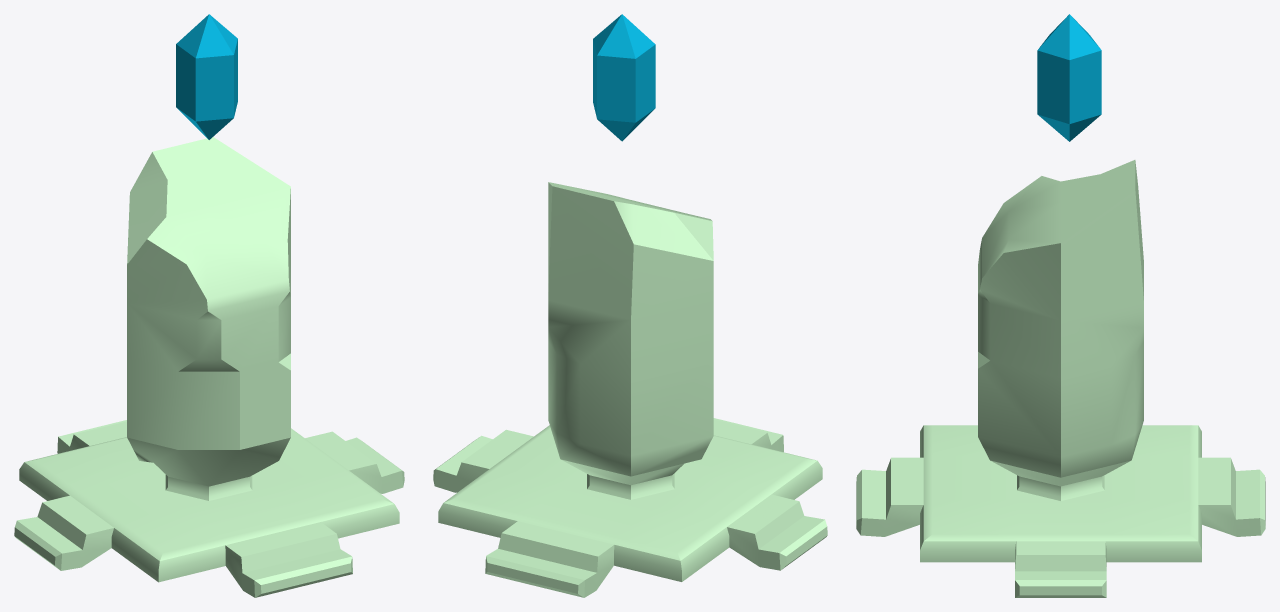
3 renders of one model, left to right at view 1: azimuth 30°, elevation 25°; view 2: azimuth 150°, elevation 25°; view 3: azimuth 270°, elevation 25°, orthographic.
Parts seen in each view (by area): view 1: CrystalTower, Base, Crystal6; view 2: CrystalTower, Base, Crystal6; view 3: CrystalTower, Base, Crystal6.
Part boxes in pixels (x1=…): CrystalTower: x1=127, y1=137, x2=290, y2=500; Base: x1=14, y1=420, x2=404, y2=597; Crystal6: x1=176, y1=14, x2=237, y2=139; CrystalTower: x1=548, y1=182, x2=713, y2=499; Base: x1=433, y1=418, x2=827, y2=597; Crystal6: x1=593, y1=14, x2=655, y2=141; CrystalTower: x1=978, y1=160, x2=1143, y2=500; Base: x1=856, y1=425, x2=1265, y2=597; Crystal6: x1=1037, y1=14, x2=1101, y2=141.
Bounding box in the file's own units: 1.05 × 1.43 × 1.05.
